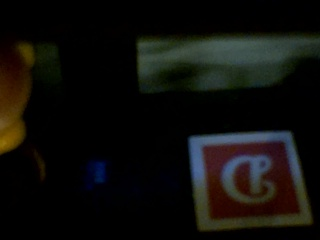D: (200, 138, 303, 223)
